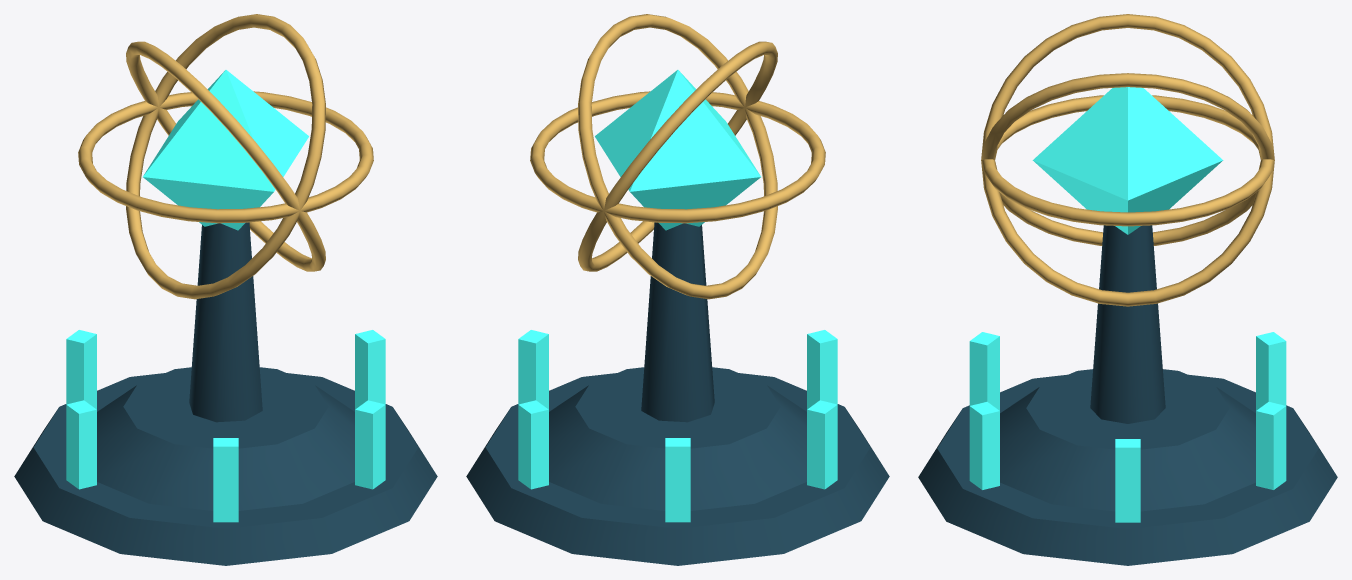
File: beacon.glb
The picture shows the model from 3 angles, left to right: view 1: azimuth 30°, elevation 25°; view 2: azimuth 150°, elevation 25°; view 3: azimuth 270°, elevation 25°; orthographic projection.
Parts seen in each view (by area): view 1: Structure, Core, Orbits; view 2: Structure, Core, Orbits; view 3: Structure, Core, Orbits.
Part boxes in pixels (bbox=[...]): Structure: bbox=[14, 222, 437, 565]; Core: bbox=[66, 70, 385, 522]; Orbits: bbox=[78, 14, 373, 299]; Structure: bbox=[466, 222, 889, 565]; Core: bbox=[518, 70, 837, 522]; Orbits: bbox=[530, 14, 825, 299]; Structure: bbox=[918, 225, 1337, 565]; Core: bbox=[969, 87, 1286, 522]; Orbits: bbox=[981, 14, 1274, 306].
Bounding box in the file's own units: 3.3 × 3.75 × 3.3.
